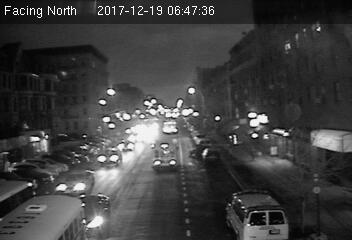car: (55, 169, 97, 195), (96, 147, 122, 167)
police: (226, 188, 290, 237)
